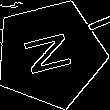N_E: (19, 28, 81, 80)
